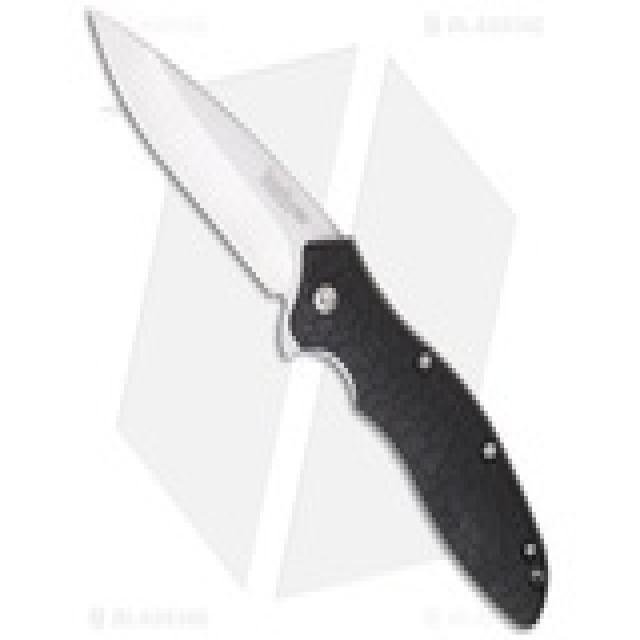Knife: (75, 5, 550, 637)
